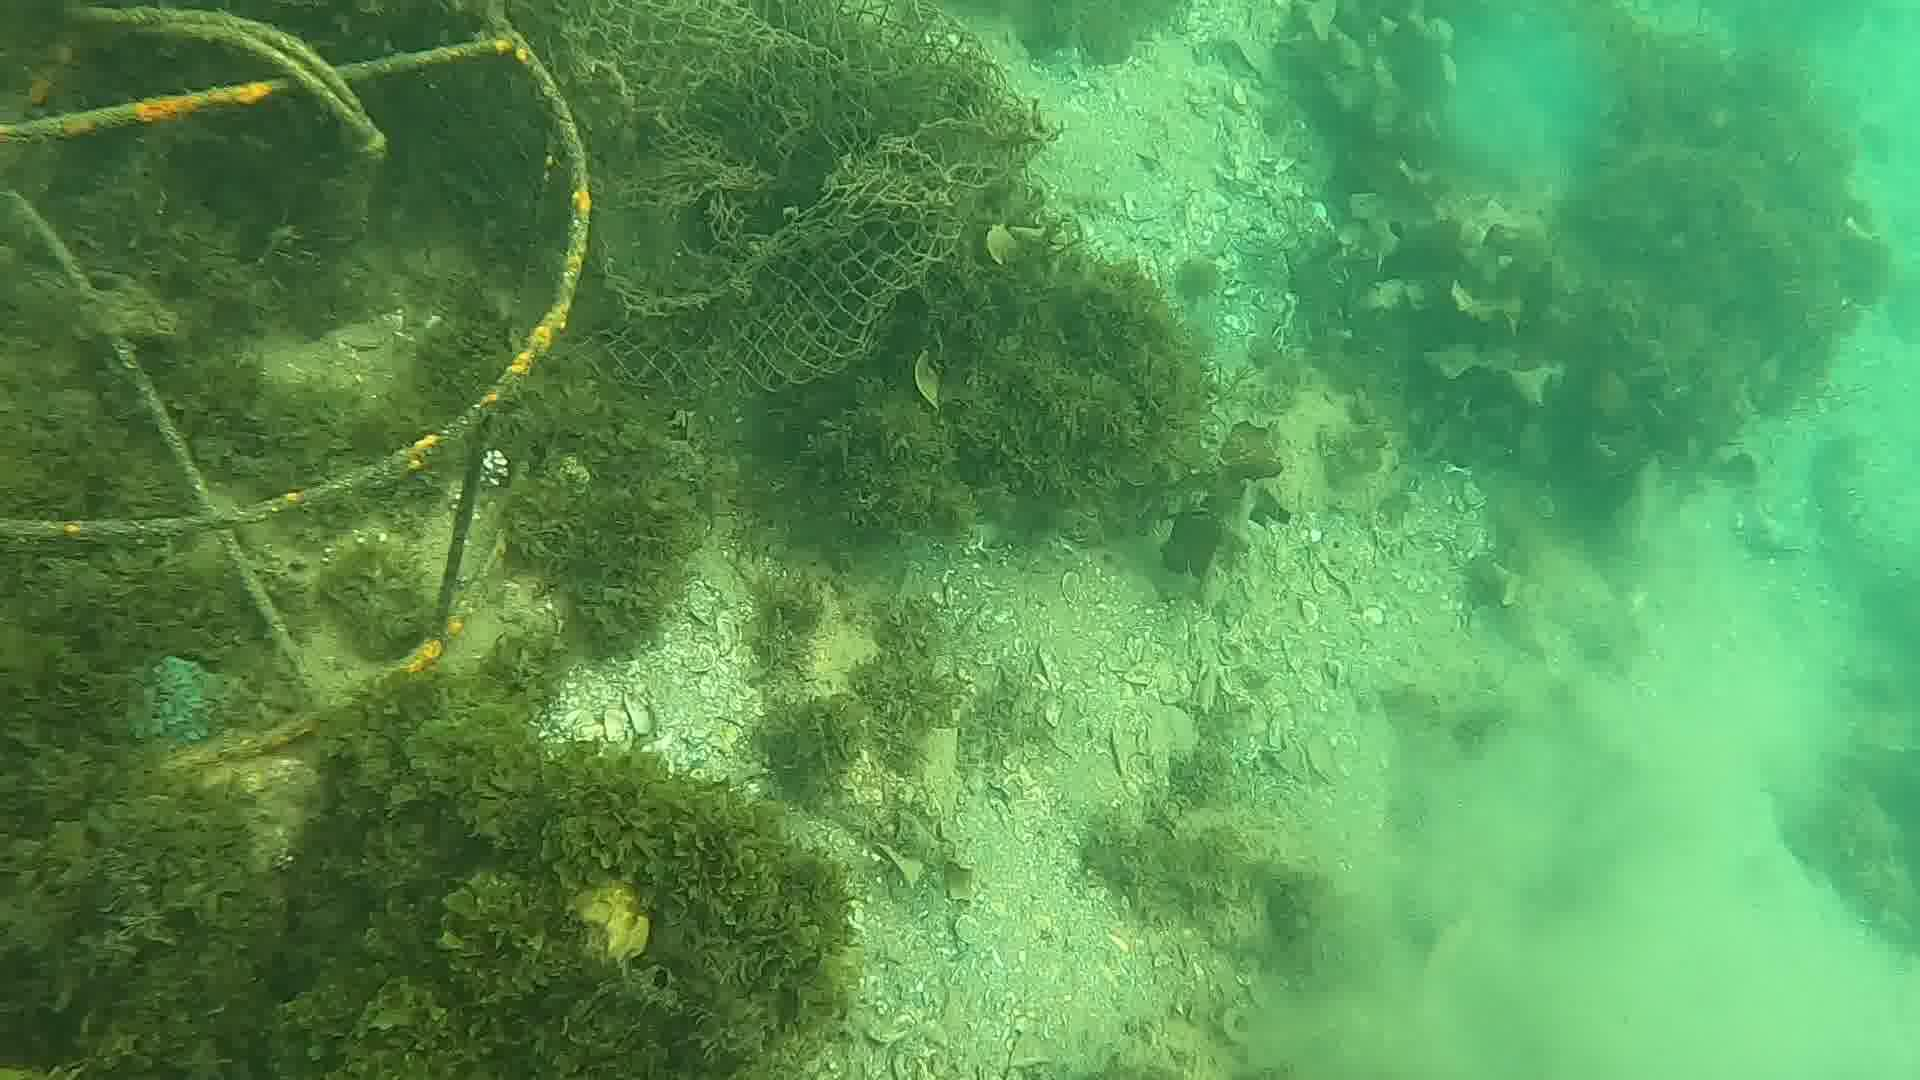bundle of ropes: (62, 0, 390, 207)
fish net: (553, 0, 1060, 394)
